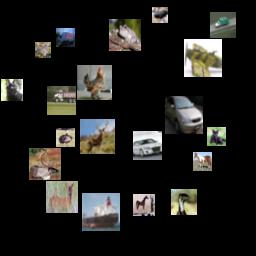airplane: (184, 39, 222, 77)
automobile: (165, 96, 203, 134), (133, 131, 162, 160)
bird: (77, 65, 112, 100), (171, 189, 197, 215), (56, 128, 75, 147), (152, 7, 168, 23)
cat: (1, 79, 23, 101), (207, 127, 226, 146), (35, 42, 51, 58)
deer: (80, 119, 115, 154), (29, 148, 61, 180), (46, 181, 78, 213)
frog: (109, 19, 141, 51)
ship: (82, 193, 120, 231)
truck: (47, 86, 76, 115), (210, 12, 236, 38), (56, 28, 75, 47)
